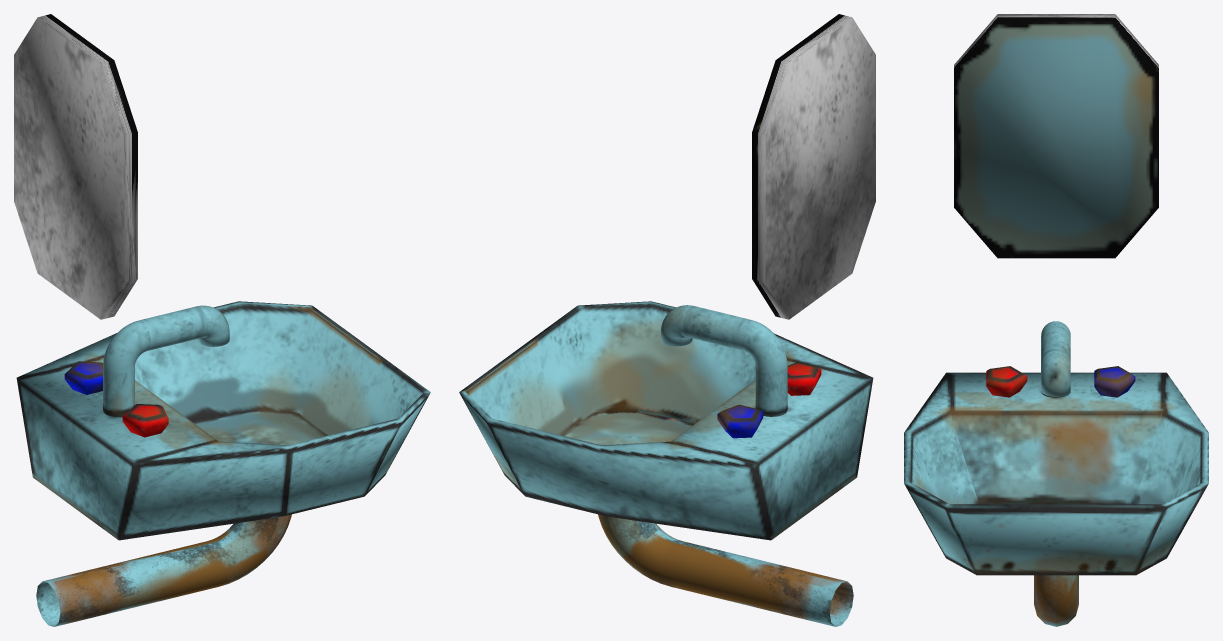
Rendered from racovina.fbx.
3 views of the same model, side by side, from view 1: azimuth 30°, elevation 25°; view 2: azimuth 150°, elevation 25°; view 3: azimuth 270°, elevation 25° (orthographic). The views are drawn at different scales.
Parts seen in each view (by area): view 1: Куб.001; view 2: Куб.001; view 3: Куб.001.
Boxes of the visible parts, bbox=[...] form: Куб.001: bbox=[14, 14, 430, 626]; Куб.001: bbox=[459, 14, 875, 626]; Куб.001: bbox=[904, 14, 1208, 626].
Size of the model in its own units: 85.06 by 146 by 74.7.
1 material, 1 textured.
